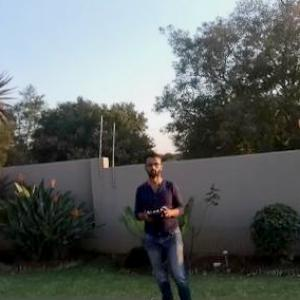follow: (128, 145, 196, 299)
